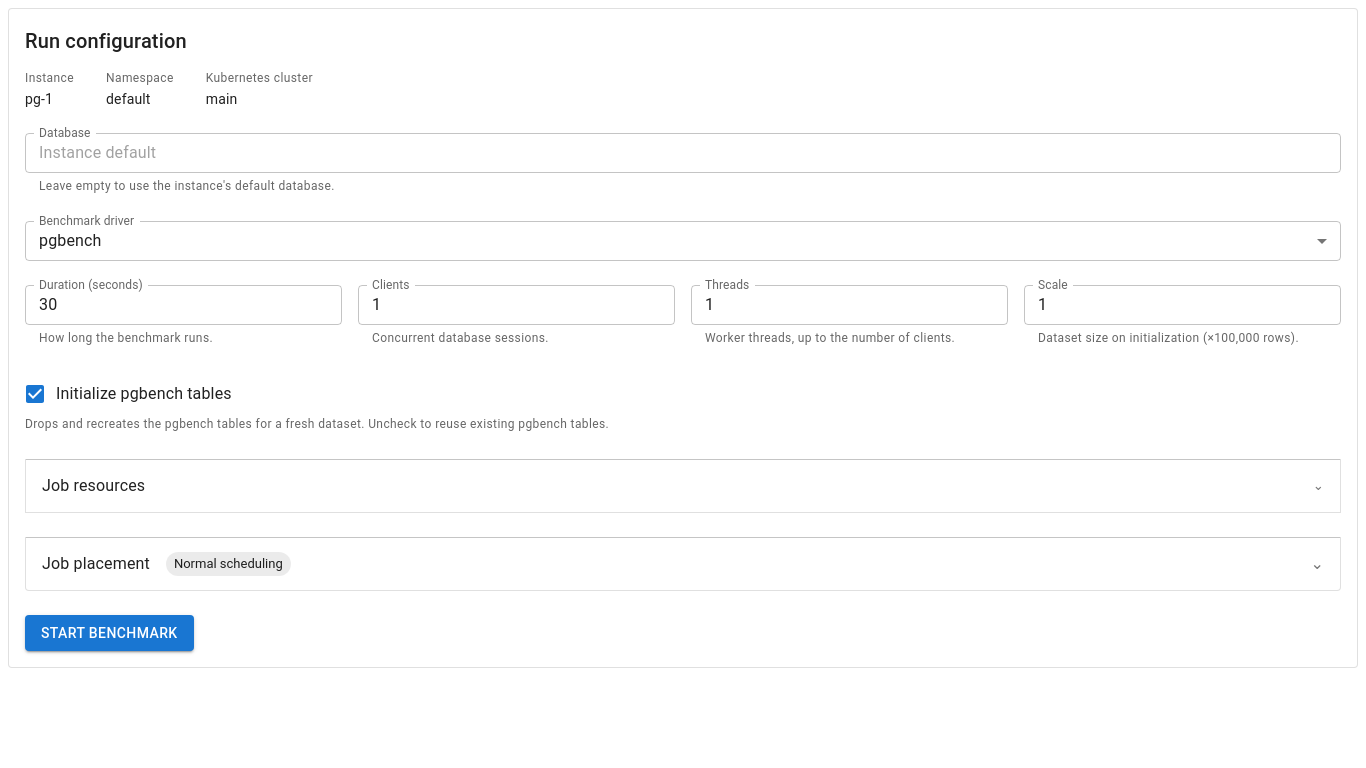
it: benchmark driver form › counts option errors immediately but shows each message after blur
Replace the text in the number field labelled "Clients" with "0" at (516, 305), box left=358, top=285, right=675, bottom=325
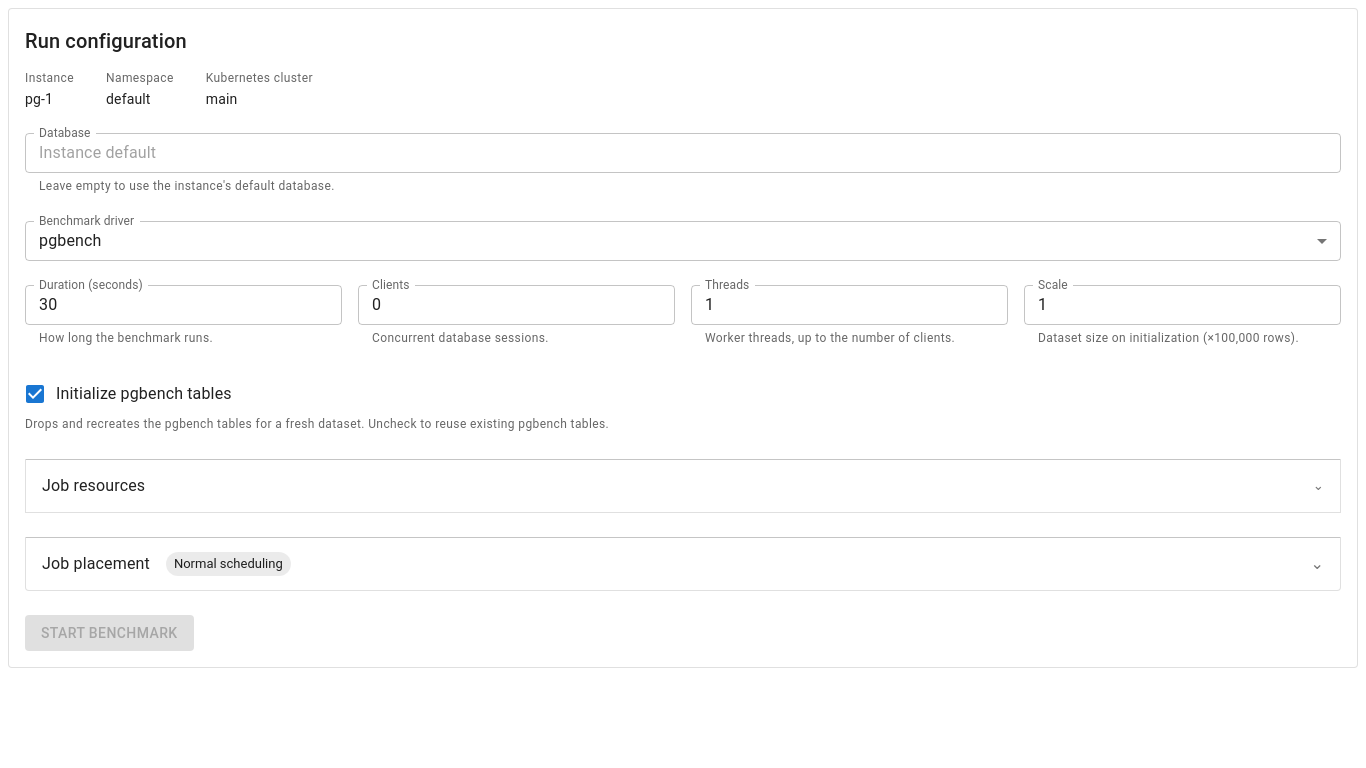
Expected: the text "Clients must be greater than zero." is not shown
Expected: the button "Start benchmark" is disabled, left=25, top=615, right=194, bottom=651
Leave the number field labelled "Clients", box left=358, top=285, right=675, bottom=325
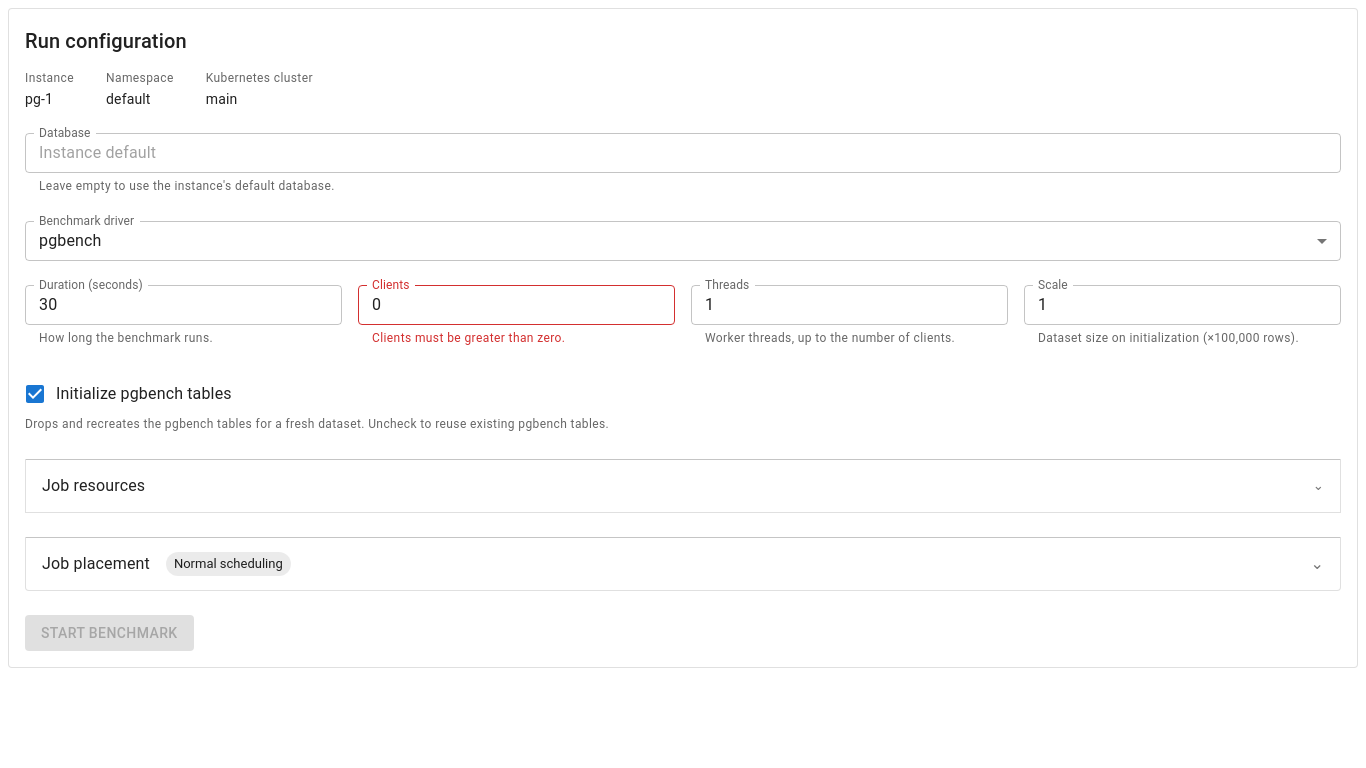
Expected: the text "Clients must be greater than zero." is shown, left=372, top=331, right=565, bottom=345
Replace the text in the number field labelled "Clients" with "2" at (516, 305), box left=358, top=285, right=675, bottom=325
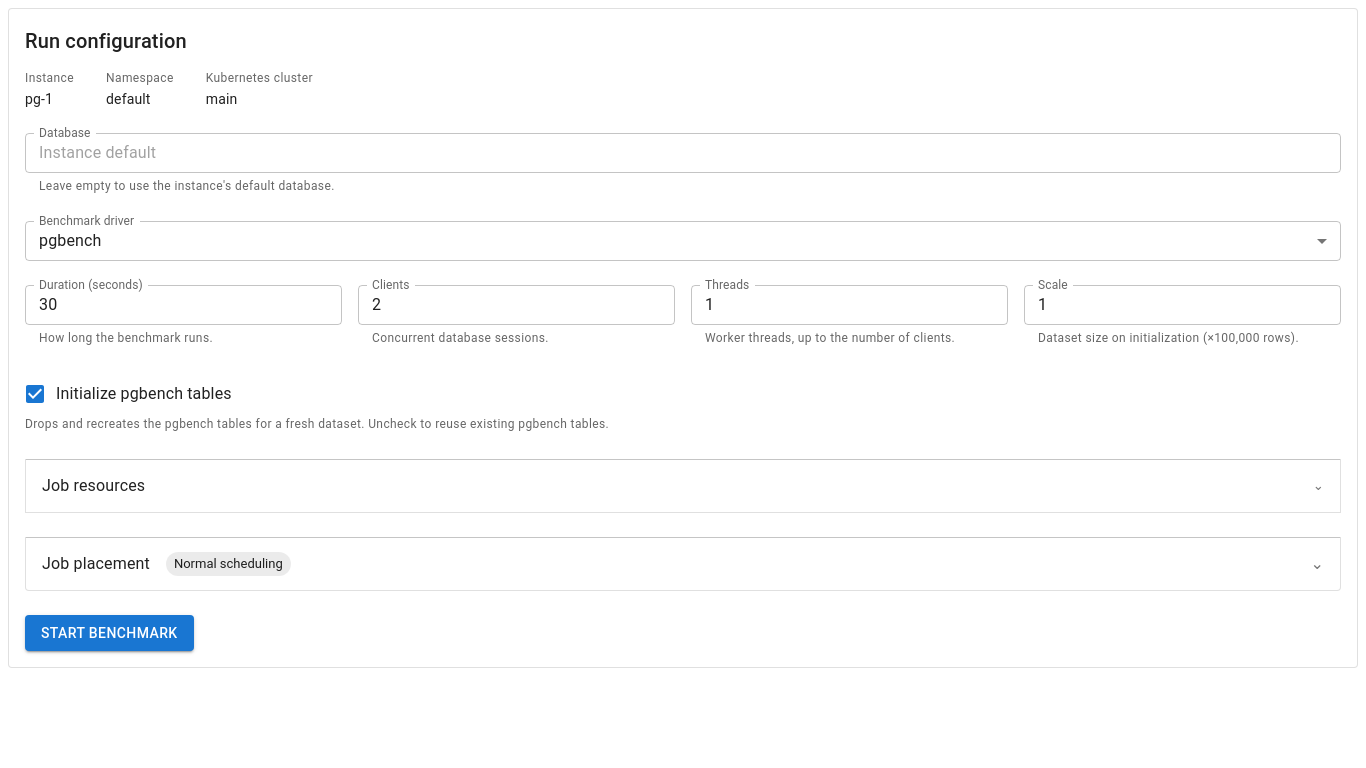
Expected: the button "Start benchmark" is enabled, left=25, top=615, right=194, bottom=651
Replace the text in the number field labelled "Threads" with "3" at (850, 305), box left=691, top=285, right=1008, bottom=325
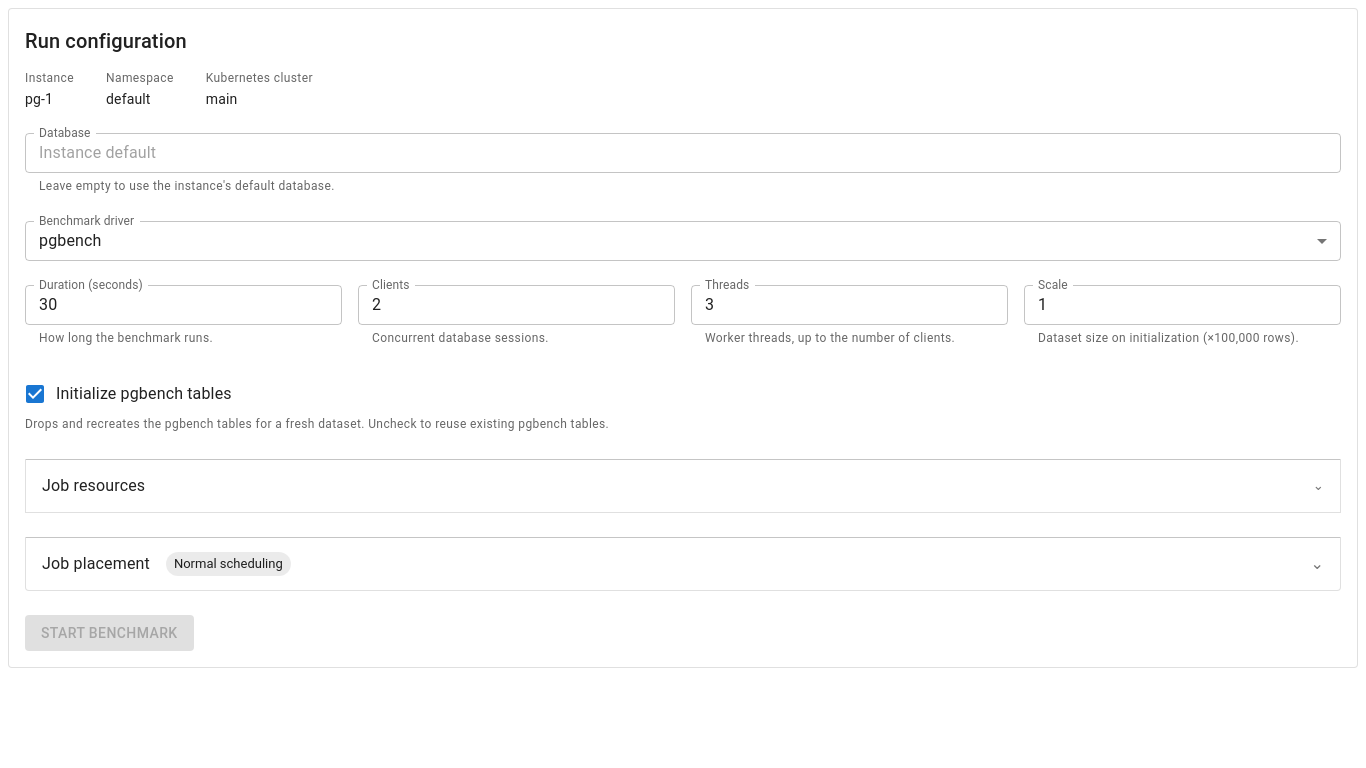
Expected: the text "Threads cannot exceed clients." is not shown
Expected: the button "Start benchmark" is disabled, left=25, top=615, right=194, bottom=651
Leave the number field labelled "Threads", box left=691, top=285, right=1008, bottom=325
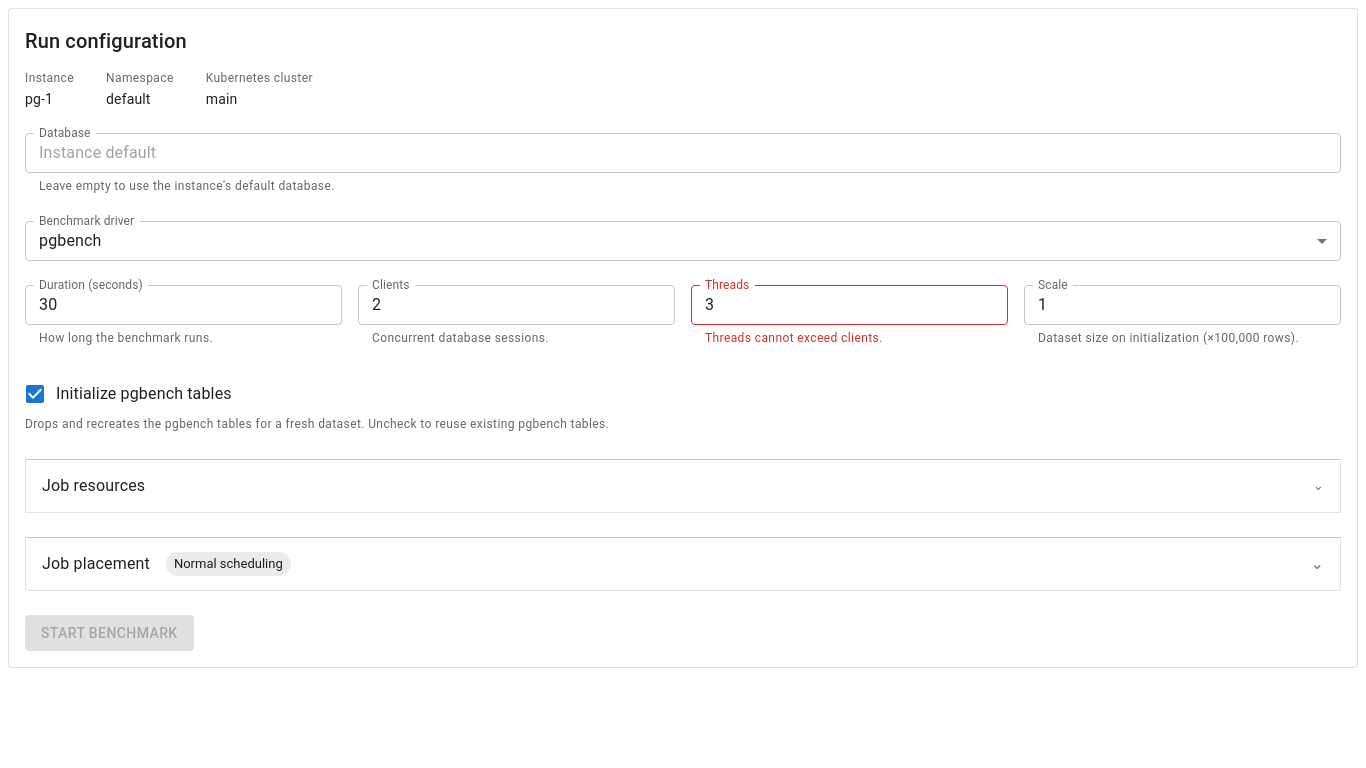
Expected: the text "Threads cannot exceed clients." is shown, left=705, top=331, right=883, bottom=345
